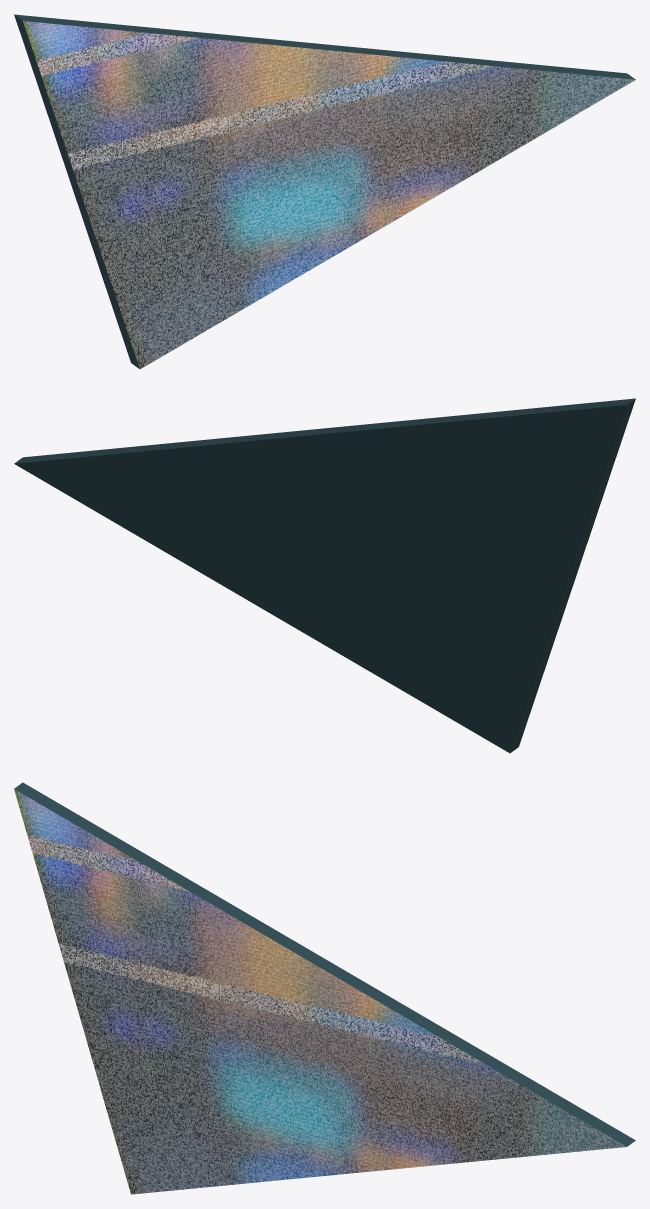
The picture shows the model from 3 angles, top to bottom: view 1: azimuth 30°, elevation 25°; view 2: azimuth 150°, elevation 25°; view 3: azimuth 330°, elevation 25°; orthographic projection.
Visible parts, largest first — view 1: Piece_08; view 2: Piece_08; view 3: Piece_08.
Boxes of the visible parts, bbox=[...] form: Piece_08: bbox=[14, 14, 635, 369]; Piece_08: bbox=[14, 398, 635, 753]; Piece_08: bbox=[14, 782, 635, 1194].
Bounding box in the file's own units: 1 × 0.5878 × 0.025.
2 materials, 1 textured.
